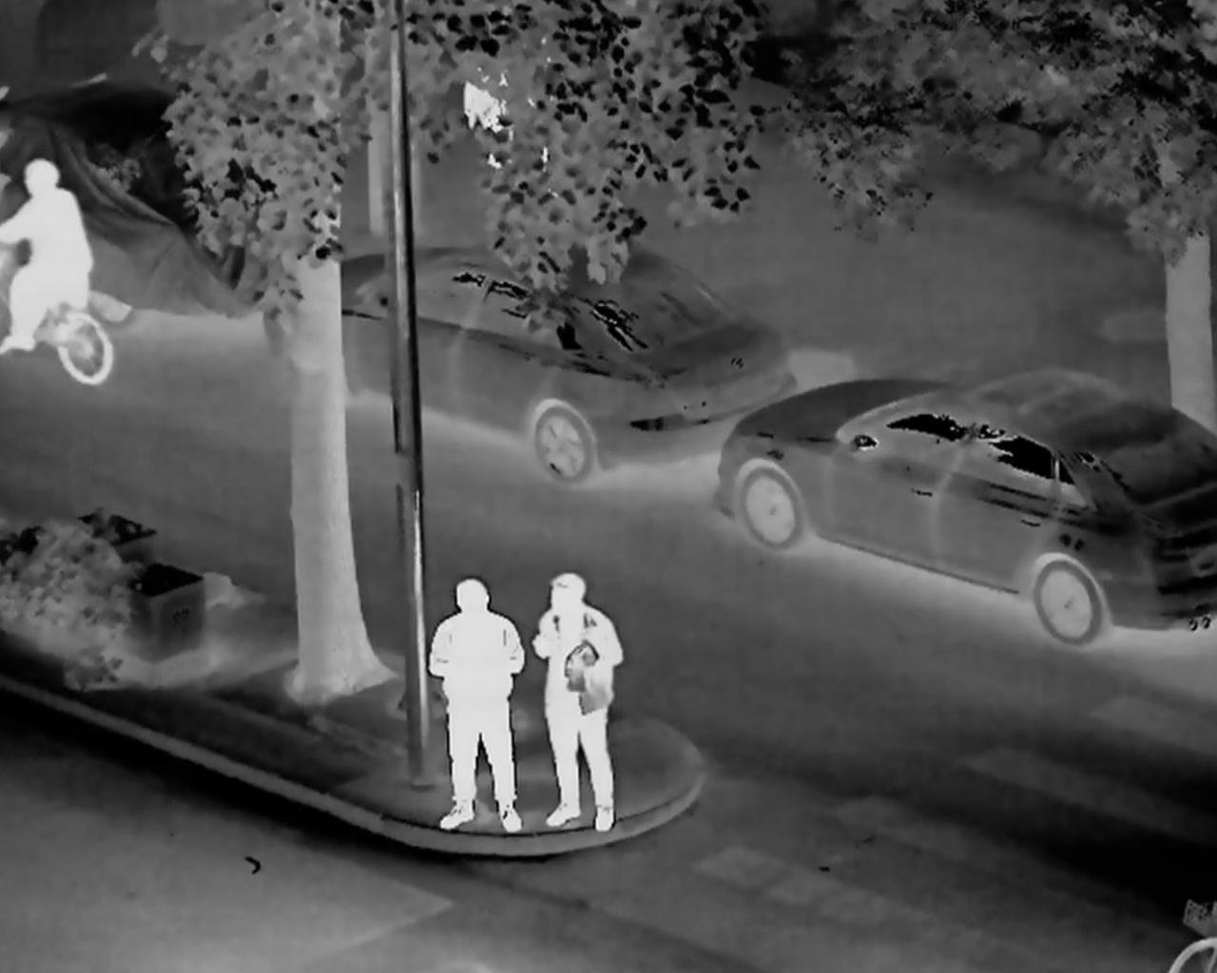person: (431, 573, 530, 849), (530, 572, 632, 837), (4, 156, 110, 370), (466, 64, 566, 178)
